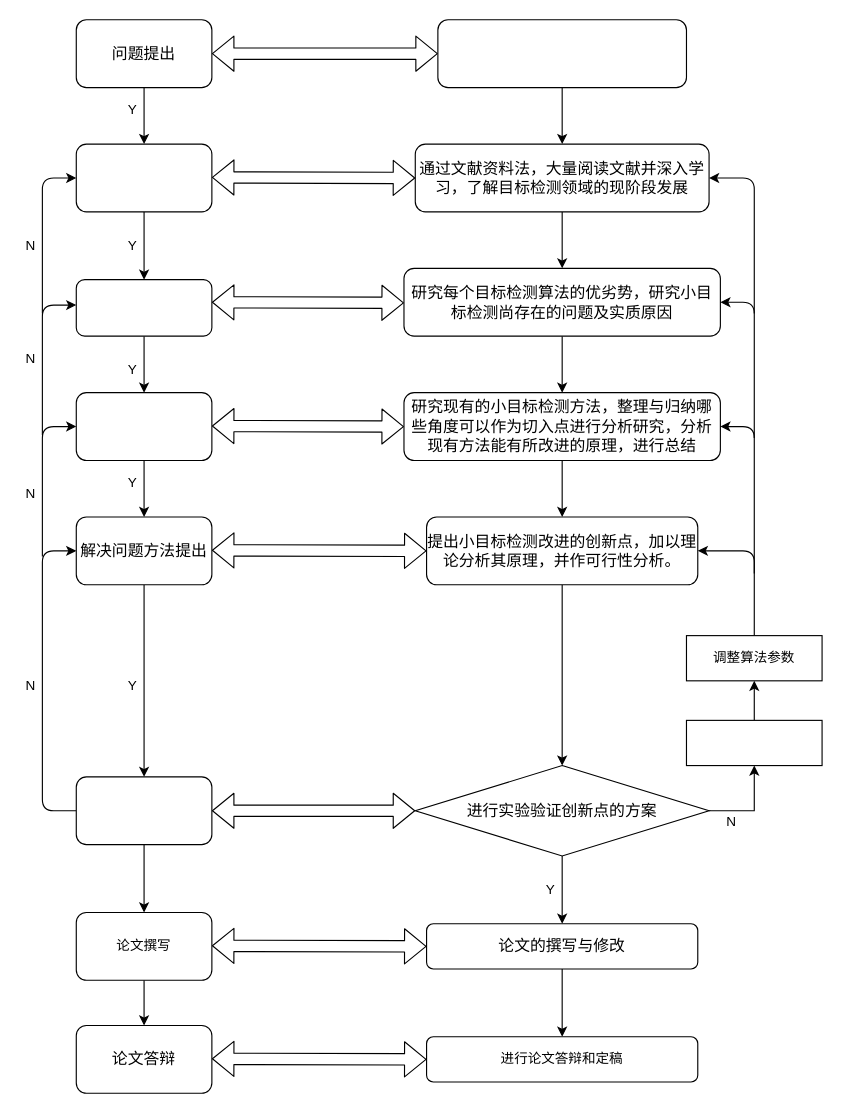
This 842x1113 diagram has some shape labels left out. Each missing label, with the box of its shape:
分析归纳法: (75, 392, 212, 460)
实证研究法: (75, 776, 212, 845)
小目标图像检测的研究与实现: (437, 19, 686, 88)
改进算法: (685, 719, 822, 766)
文献资料法: (75, 143, 212, 212)
理论研究法: (75, 279, 212, 336)
